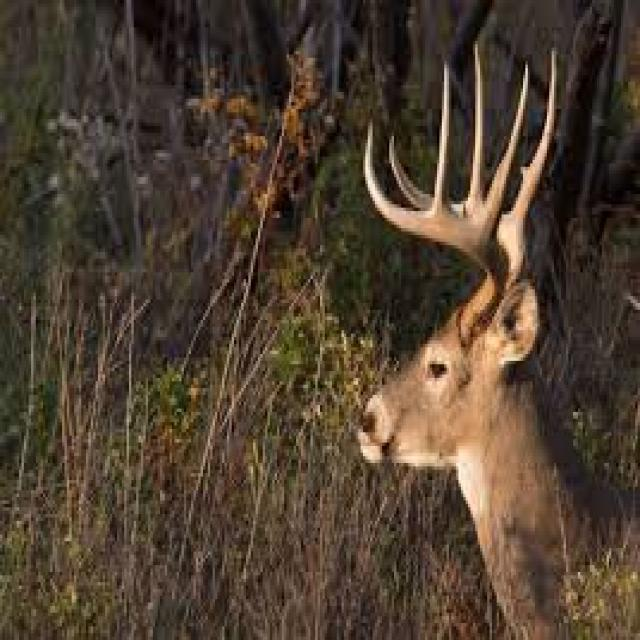deer: (356, 48, 638, 637)
